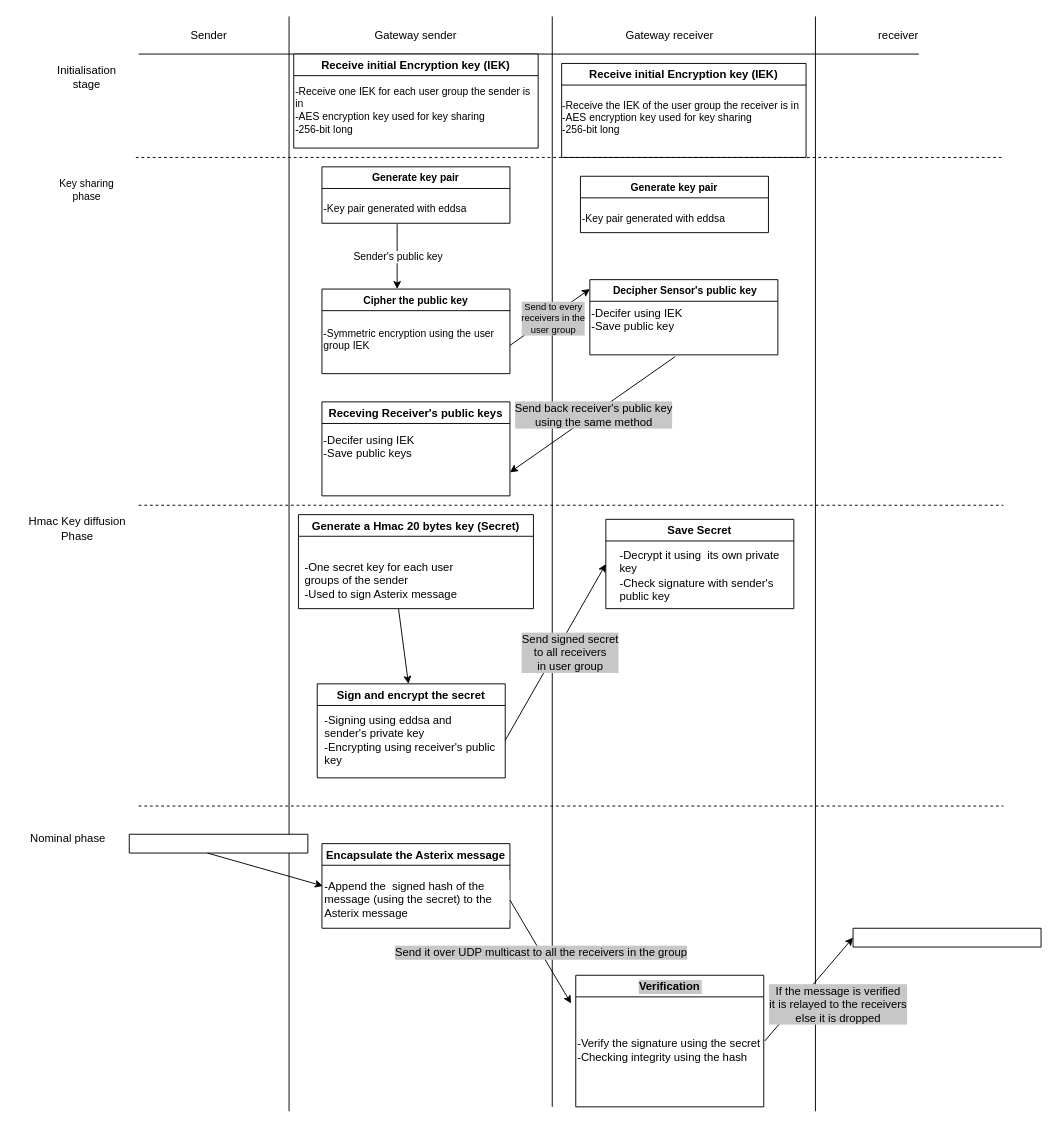
This 1058x1129 diagram has some shape labels left out. The shapes that lost their labels are listed below. From the top down, each one's centre as x and y in pixels, then its label:
(x=218, y=843): Generate Asterix message
(x=946, y=937): Normal use of an asterix message
